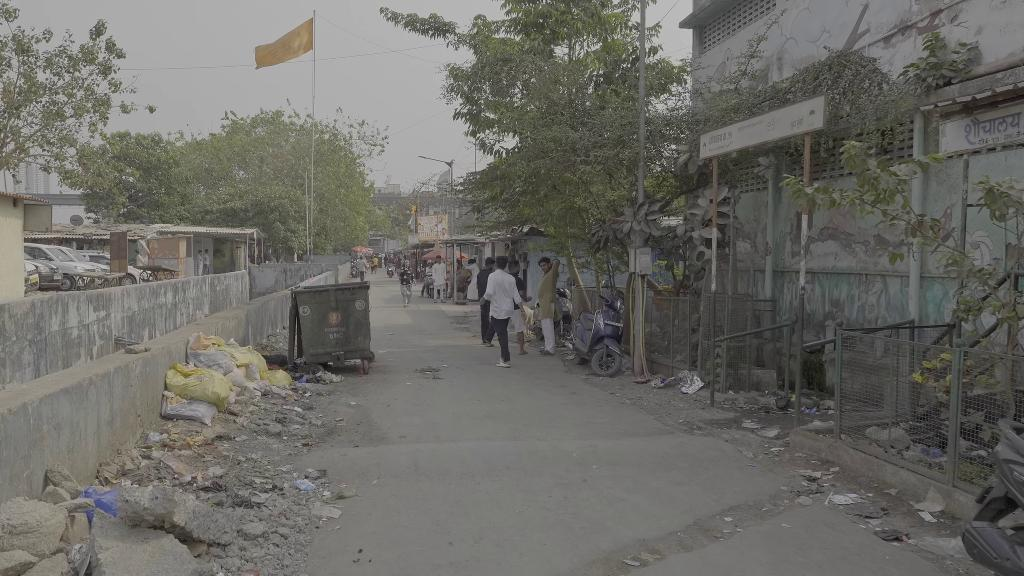dustbin: (281, 282, 379, 376)
garbage: (187, 326, 291, 386), (167, 364, 236, 413)
